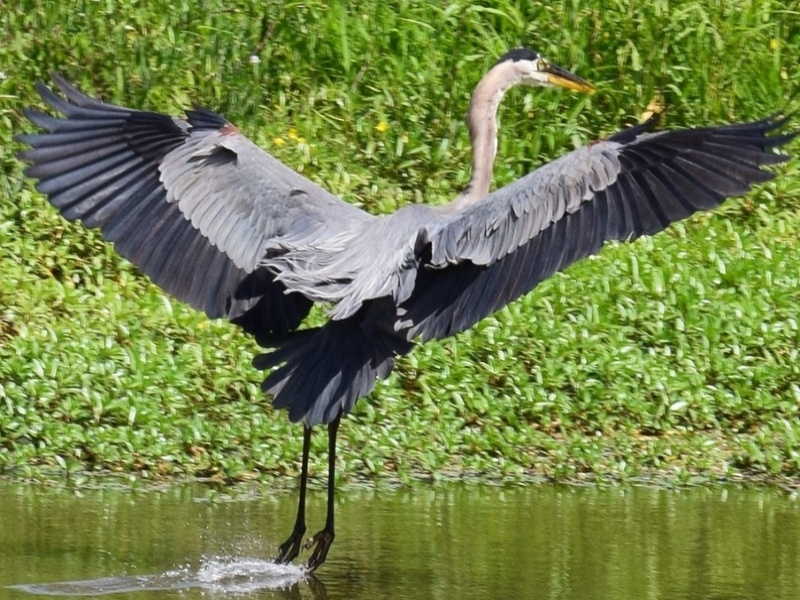heron: (28, 42, 799, 580)
